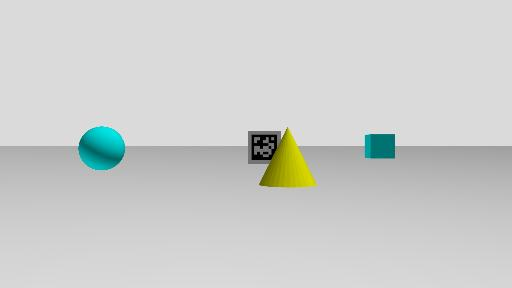yellow_cone: (258, 126, 318, 188)
